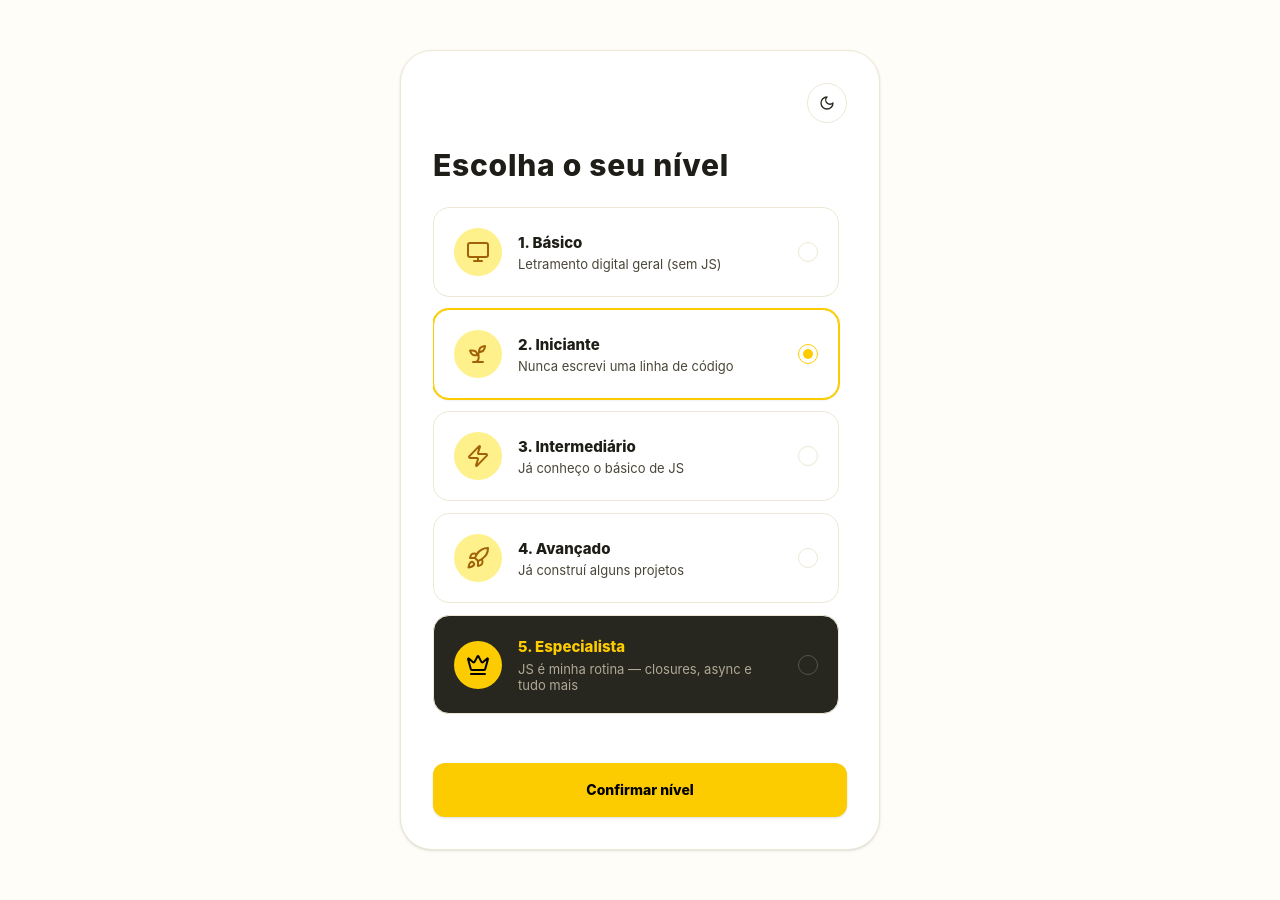
it: Fase 3 - Motor Real de Progressão da Trilha › 20. Alterar nível altera os módulos carregados e persiste após refresh
Click the heading "1. Básico" at (550, 242), box [518,233,582,252]
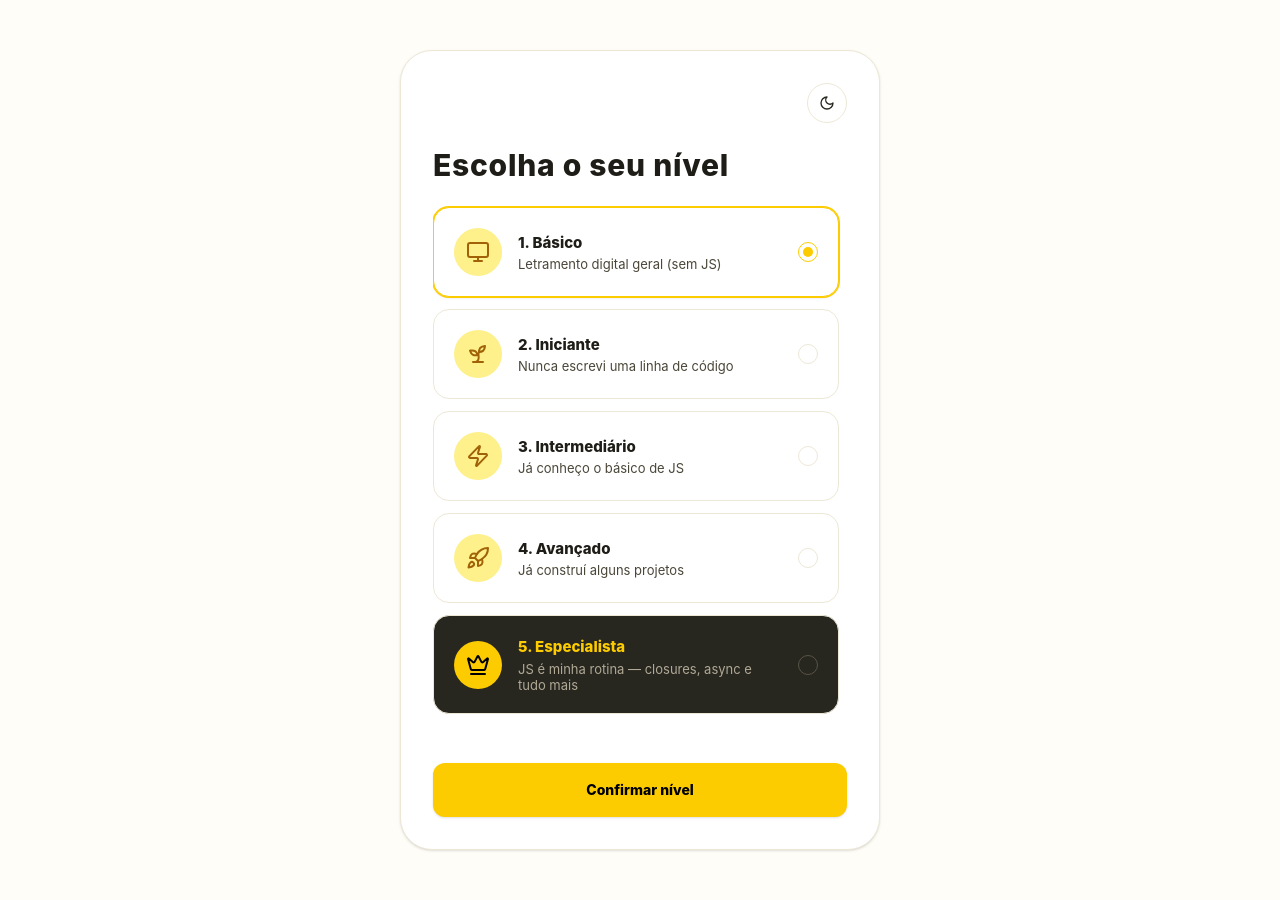
Click the button "Confirmar nível" at (640, 790), box [433,763,847,817]
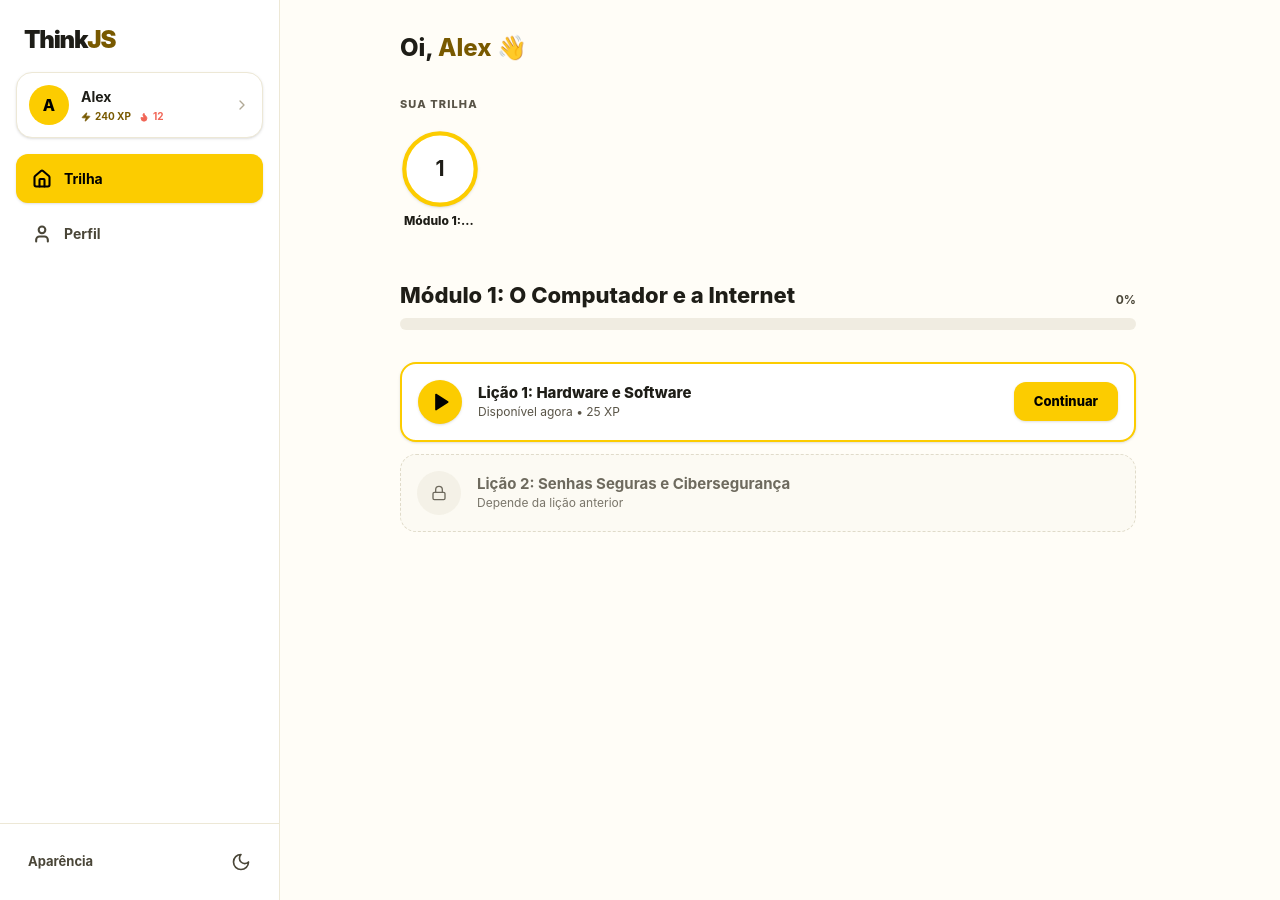
expect the text "Módulo 1: O Computador e a Internet" is shown: met, box [400,212,480,228]
